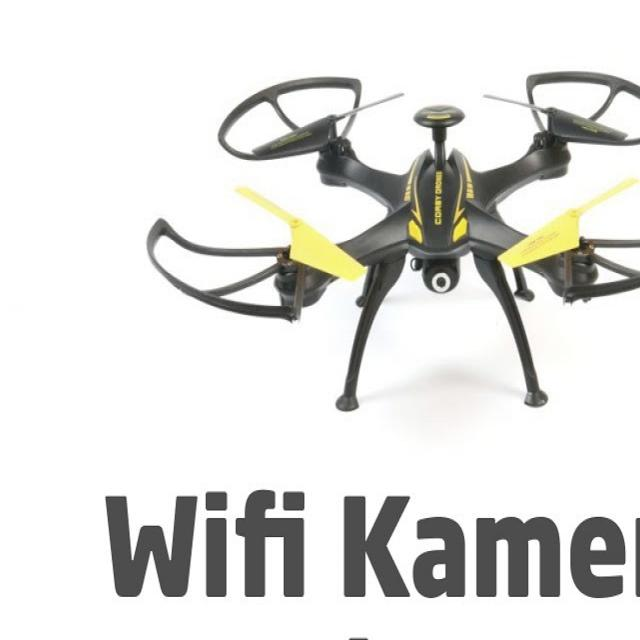drone: (120, 42, 640, 421)
